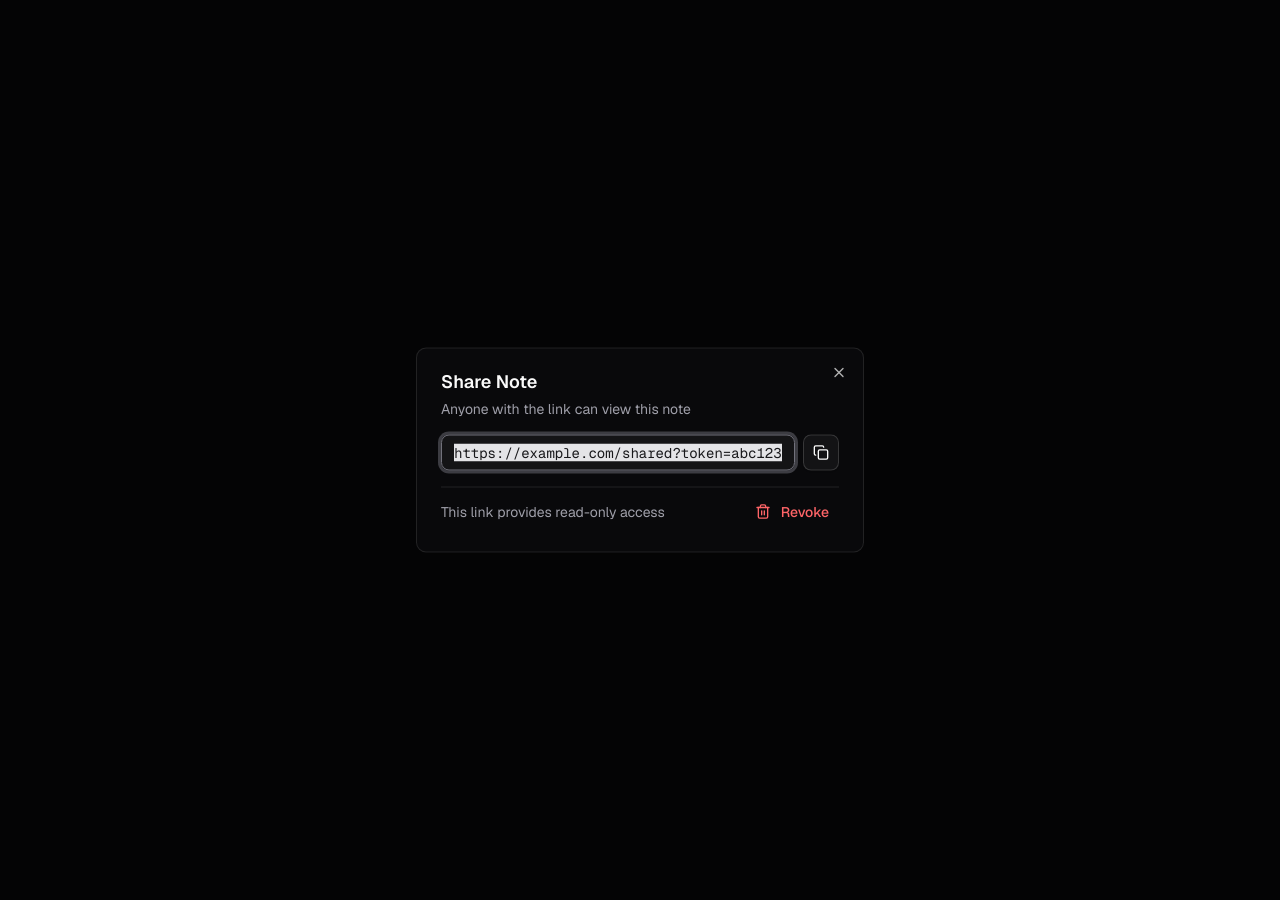
Test: ShareDialog › Share exists state › copies URL to clipboard when copy button is clicked
The image size is (1280, 900).
Click the button with test id "share-copy-button". click: (821, 452)
box: [803,434,839,470]
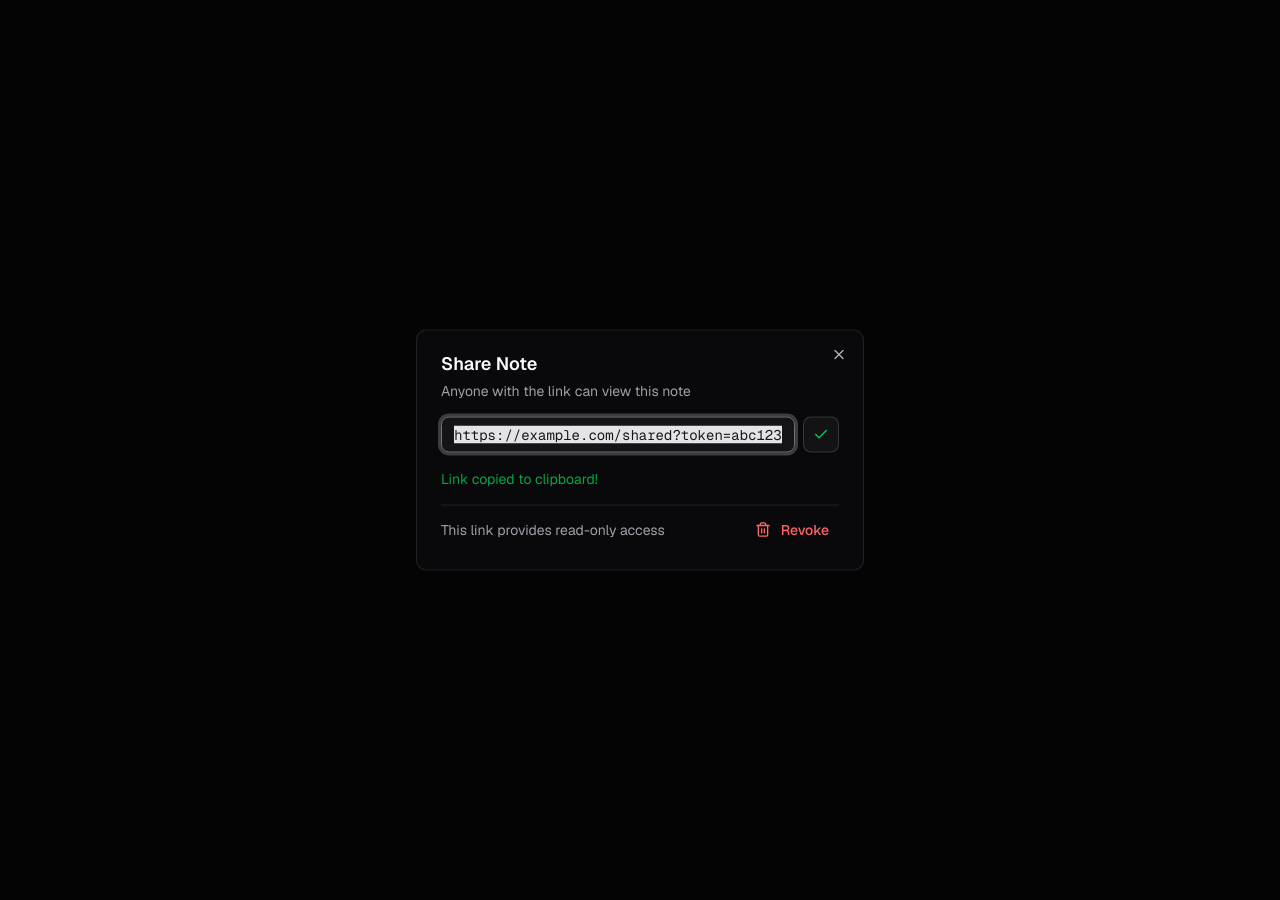
Check: the text "Link copied to clipboard!" is shown, box [441,470,598,488]
